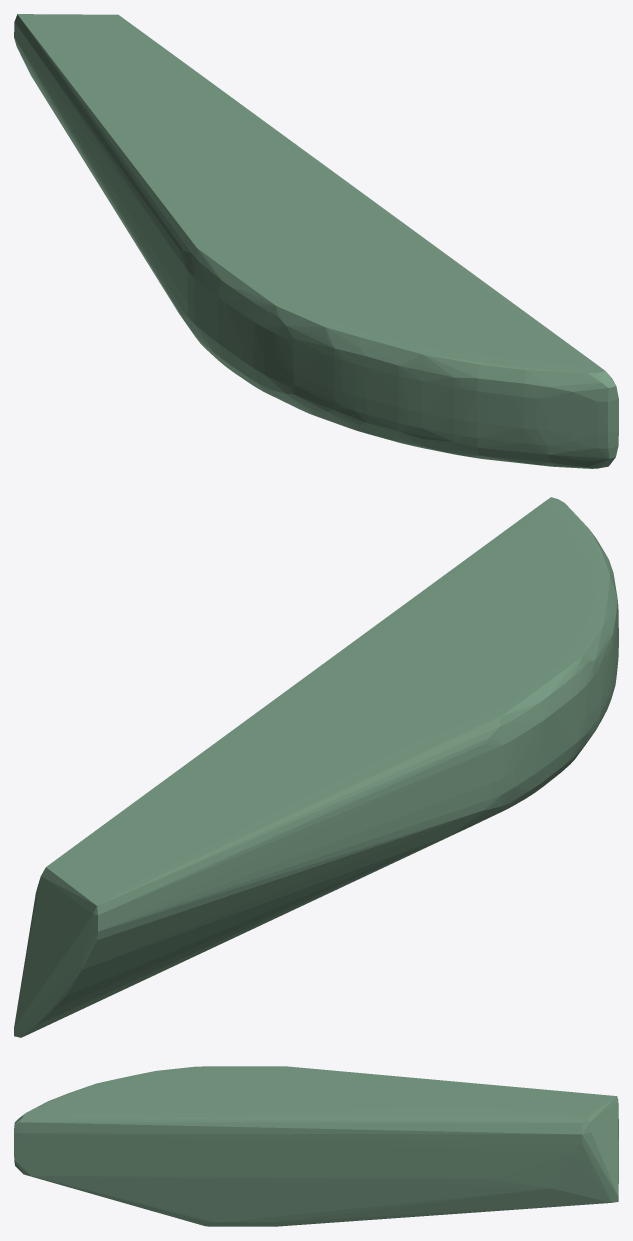
File: left-hip-yaw-0_part_0.obj
The picture shows the model from 3 angles, top to bottom: view 1: azimuth 30°, elevation 25°; view 2: azimuth 150°, elevation 25°; view 3: azimuth 270°, elevation 25°; orthographic projection. The views are drawn at different scales.
Bounding box in the file's own units: 0.0247 × 0.0219 × 0.1097.
